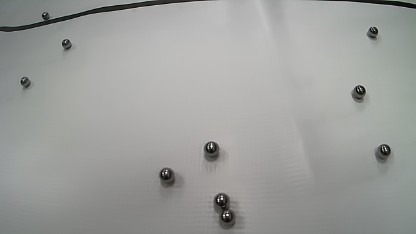ironball: (213, 192, 230, 211), (219, 209, 235, 226), (158, 167, 174, 183), (204, 141, 219, 157), (376, 143, 390, 159), (352, 85, 366, 99), (368, 26, 378, 38), (20, 77, 30, 88), (62, 39, 72, 49), (41, 12, 50, 20)
